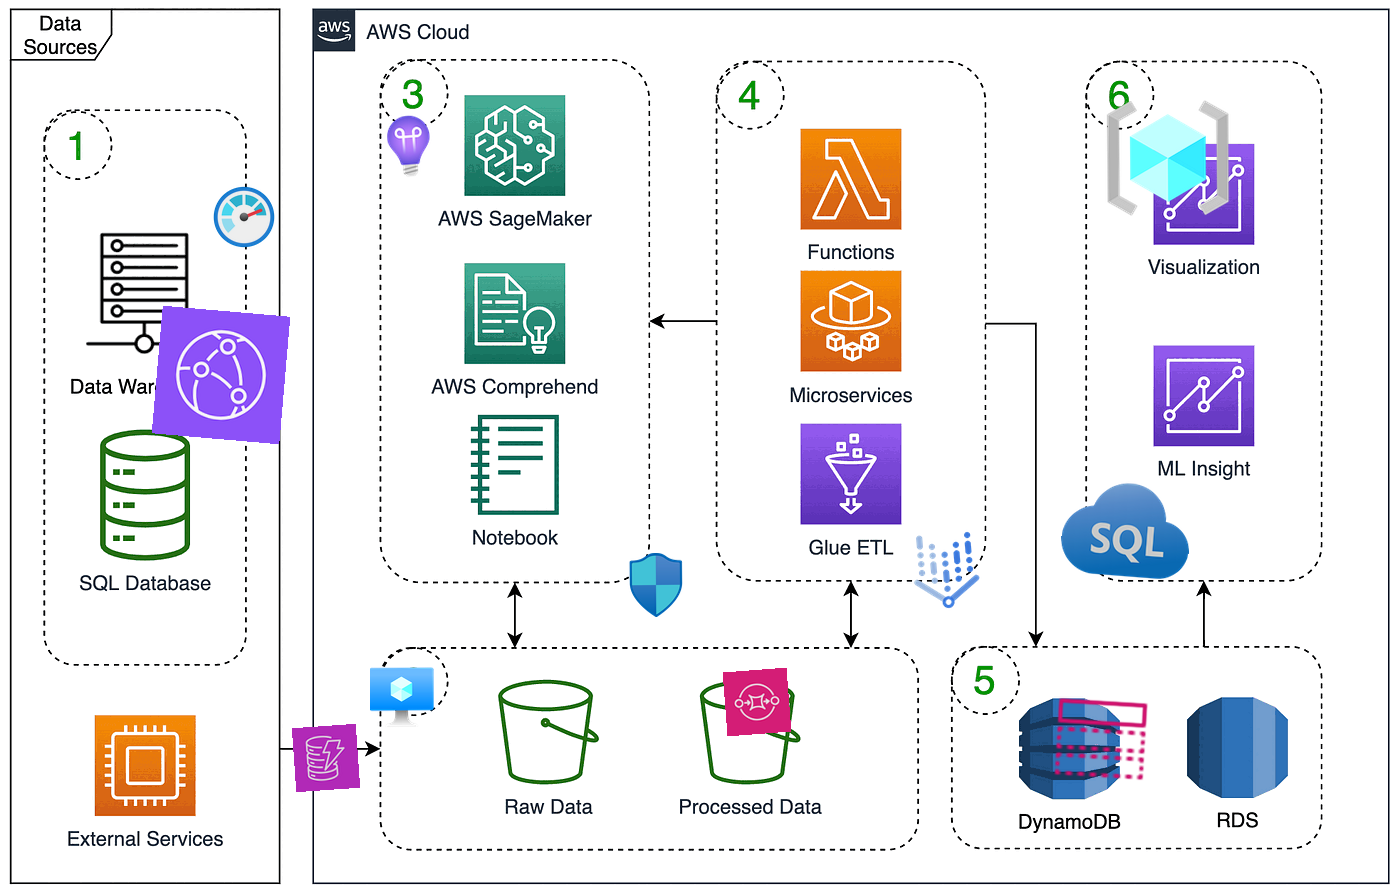aws_amazon_cloudfront: (151, 305, 291, 445)
aws_amazon_dynamodb: (291, 723, 361, 793)
aws_amazon_simple_queue_service: (722, 667, 792, 737)
aws_simple_notification_service_topic: (1050, 688, 1152, 790)
azure_application_insights: (374, 111, 444, 181)
azure_monitor: (211, 184, 277, 250)
azure_network_security_groups: (623, 552, 689, 618)
azure_resource_groups: (1103, 93, 1233, 224)
azure_sql: (1057, 463, 1195, 601)
azure_virtual_machine: (369, 666, 435, 732)
gcp_vertex_ai: (894, 519, 998, 623)
